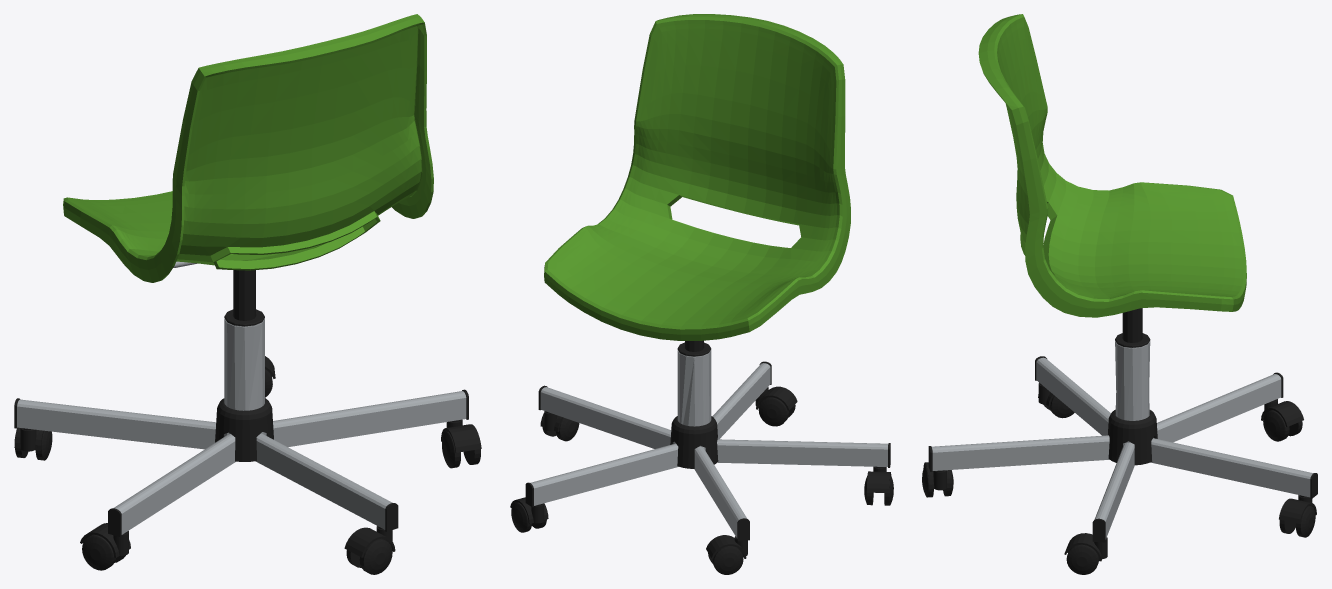
The picture shows the model from 3 angles, left to right: view 1: azimuth 30°, elevation 25°; view 2: azimuth 150°, elevation 25°; view 3: azimuth 270°, elevation 25°; orthographic projection. The views are drawn at different scales.
Parts seen in each view (by area): view 1: Mesh2 Group2 SNILLE_IKEA1 Model, Mesh8 Group6 SNILLE_IKEA1 Model, Mesh7 Group5 SNILLE_IKEA1 Model, Mesh1 Group1 SNILLE_IKEA1 Model, Mesh3 Group3 SNILLE_IKEA1 Model, Mesh20 ROULETTE4 SNILLE_IKEA1 Model, Mesh14 ROULETTE2 SNILLE_IKEA1 Model, Mesh15 ROULETTE3 SNILLE_IKEA1 Model, Mesh12 ROULETTE2 SNILLE_IKEA1 Model, Mesh18 ROULETTE4 SNILLE_IKEA1 Model, Mesh9 ROULETTE1 SNILLE_IKEA1 Model; view 2: Mesh2 Group2 SNILLE_IKEA1 Model, Mesh8 Group6 SNILLE_IKEA1 Model, Mesh7 Group5 SNILLE_IKEA1 Model, Mesh1 Group1 SNILLE_IKEA1 Model, Mesh11 ROULETTE1 SNILLE_IKEA1 Model, Mesh13 ROULETTE2 SNILLE_IKEA1 Model, Mesh18 ROULETTE4 SNILLE_IKEA1 Model, Mesh9 ROULETTE1 SNILLE_IKEA1 Model, Mesh12 ROULETTE2 SNILLE_IKEA1 Model; view 3: Mesh2 Group2 SNILLE_IKEA1 Model, Mesh8 Group6 SNILLE_IKEA1 Model, Mesh7 Group5 SNILLE_IKEA1 Model, Mesh1 Group1 SNILLE_IKEA1 Model, Mesh3 Group3 SNILLE_IKEA1 Model, Mesh17 ROULETTE3 SNILLE_IKEA1 Model, Mesh21 ROULETTE5 SNILLE_IKEA1 Model, Mesh9 ROULETTE1 SNILLE_IKEA1 Model, Mesh10 ROULETTE1 SNILLE_IKEA1 Model, Mesh15 ROULETTE3 SNILLE_IKEA1 Model, Mesh12 ROULETTE2 SNILLE_IKEA1 Model.
Part boxes in pixels (left/top/right/bottom): Mesh2 Group2 SNILLE_IKEA1 Model: left=63, top=14, right=433, bottom=282; Mesh8 Group6 SNILLE_IKEA1 Model: left=14, top=389, right=468, bottom=536; Mesh7 Group5 SNILLE_IKEA1 Model: left=224, top=318, right=264, bottom=410; Mesh1 Group1 SNILLE_IKEA1 Model: left=215, top=398, right=273, bottom=461; Mesh3 Group3 SNILLE_IKEA1 Model: left=224, top=270, right=264, bottom=326; Mesh20 ROULETTE4 SNILLE_IKEA1 Model: left=82, top=534, right=115, bottom=570; Mesh14 ROULETTE2 SNILLE_IKEA1 Model: left=359, top=538, right=392, bottom=574; Mesh15 ROULETTE3 SNILLE_IKEA1 Model: left=441, top=419, right=481, bottom=452; Mesh12 ROULETTE2 SNILLE_IKEA1 Model: left=344, top=526, right=395, bottom=557; Mesh18 ROULETTE4 SNILLE_IKEA1 Model: left=80, top=523, right=130, bottom=557; Mesh9 ROULETTE1 SNILLE_IKEA1 Model: left=14, top=427, right=43, bottom=451; Mesh2 Group2 SNILLE_IKEA1 Model: left=544, top=14, right=850, bottom=340; Mesh8 Group6 SNILLE_IKEA1 Model: left=525, top=361, right=890, bottom=541; Mesh7 Group5 SNILLE_IKEA1 Model: left=677, top=350, right=711, bottom=426; Mesh1 Group1 SNILLE_IKEA1 Model: left=670, top=416, right=718, bottom=468; Mesh11 ROULETTE1 SNILLE_IKEA1 Model: left=712, top=546, right=743, bottom=574; Mesh13 ROULETTE2 SNILLE_IKEA1 Model: left=758, top=397, right=789, bottom=426; Mesh18 ROULETTE4 SNILLE_IKEA1 Model: left=866, top=466, right=891, bottom=492; Mesh9 ROULETTE1 SNILLE_IKEA1 Model: left=706, top=535, right=747, bottom=558; Mesh12 ROULETTE2 SNILLE_IKEA1 Model: left=755, top=386, right=797, bottom=410; Mesh2 Group2 SNILLE_IKEA1 Model: left=978, top=14, right=1246, bottom=317; Mesh8 Group6 SNILLE_IKEA1 Model: left=928, top=356, right=1317, bottom=542; Mesh7 Group5 SNILLE_IKEA1 Model: left=1115, top=341, right=1150, bottom=420; Mesh1 Group1 SNILLE_IKEA1 Model: left=1108, top=409, right=1157, bottom=465; Mesh3 Group3 SNILLE_IKEA1 Model: left=1115, top=308, right=1150, bottom=347; Mesh17 ROULETTE3 SNILLE_IKEA1 Model: left=1066, top=544, right=1098, bottom=574; Mesh21 ROULETTE5 SNILLE_IKEA1 Model: left=1279, top=495, right=1316, bottom=523; Mesh9 ROULETTE1 SNILLE_IKEA1 Model: left=1261, top=399, right=1303, bottom=426; Mesh10 ROULETTE1 SNILLE_IKEA1 Model: left=1263, top=410, right=1289, bottom=441; Mesh15 ROULETTE3 SNILLE_IKEA1 Model: left=1064, top=533, right=1107, bottom=561; Mesh12 ROULETTE2 SNILLE_IKEA1 Model: left=923, top=462, right=952, bottom=490.
Bounding box in the file's own units: 0.5969 × 0.7149 × 0.5832.
